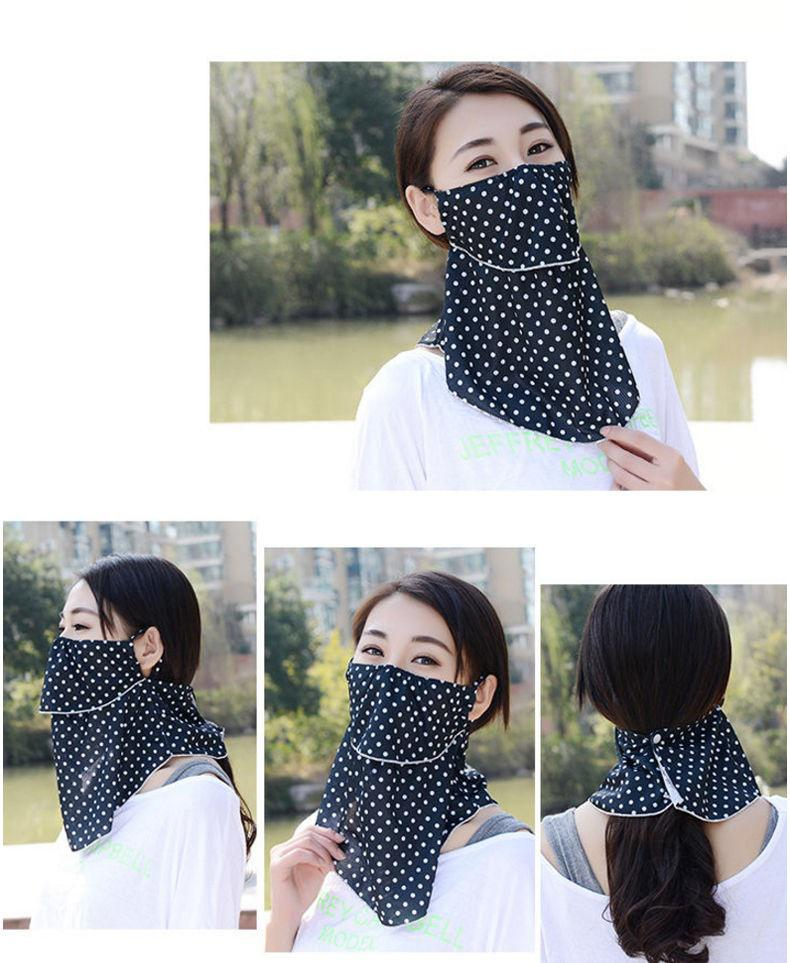OK: (427, 107, 584, 264), (344, 612, 487, 755), (50, 600, 159, 711)
